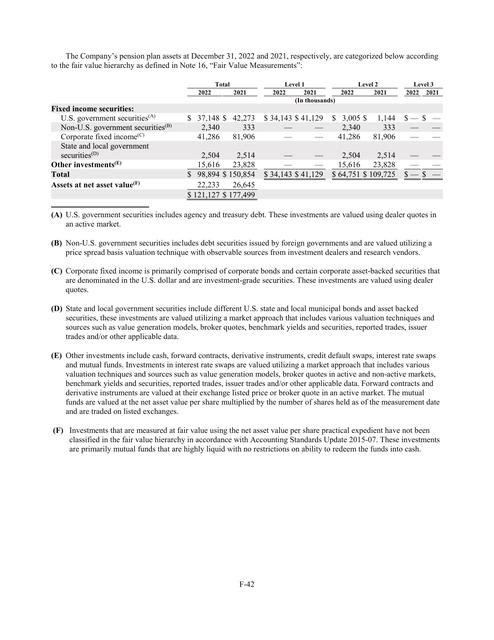box: (50, 80, 445, 203)
